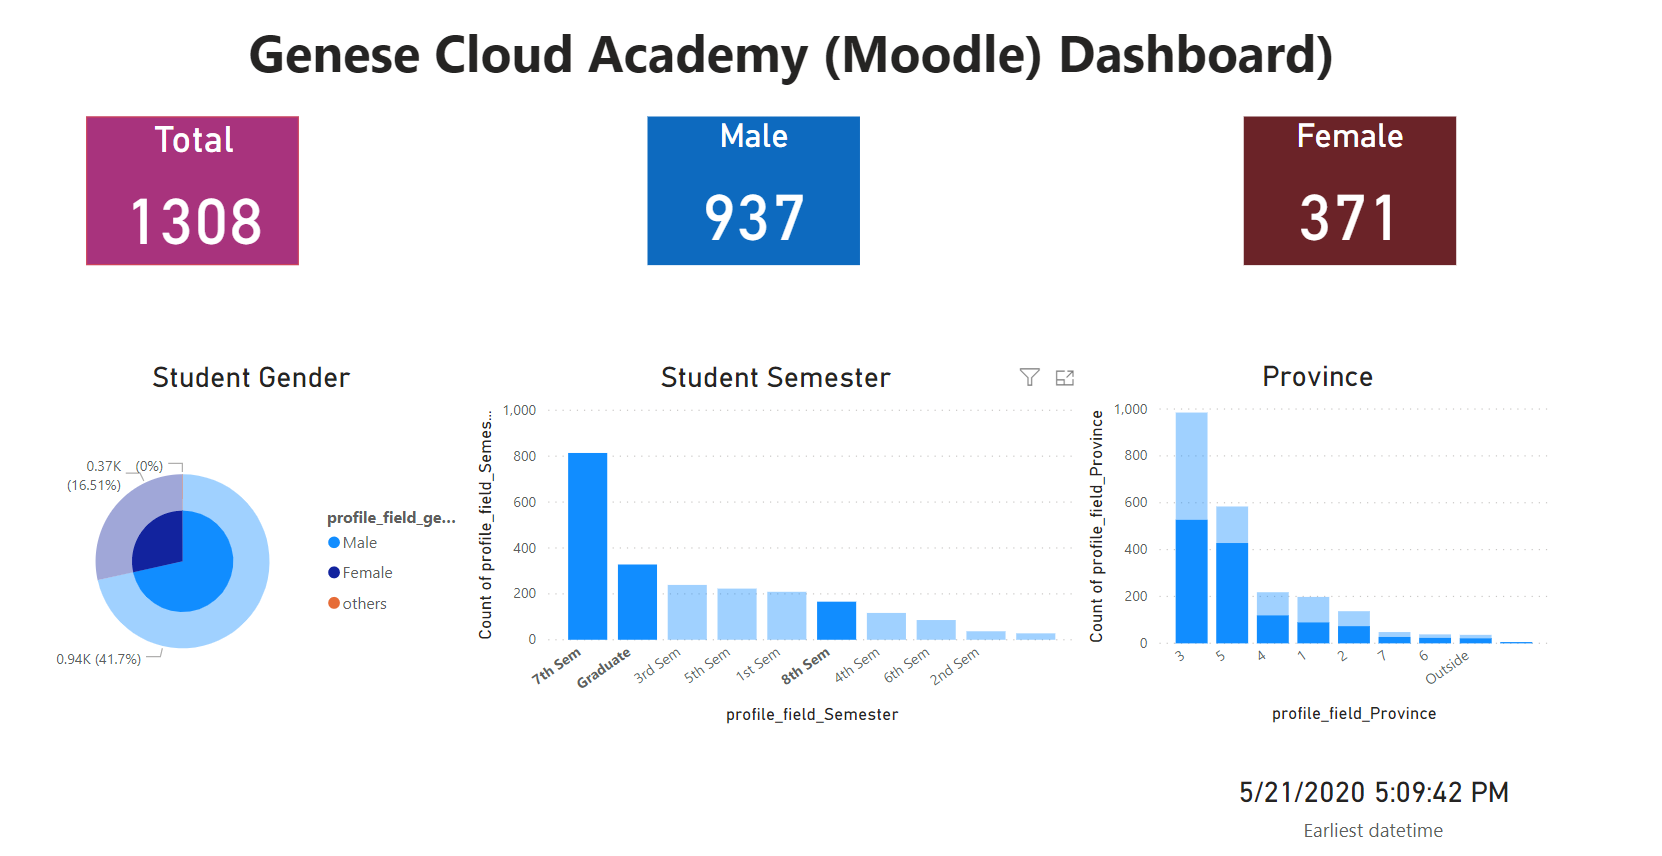

This screenshot's page, from the dashboard's own definition file:
{"tool":"powerbi","page":{"name":"Dashboard","canvas":[1280,720],"ordinal":0},"visuals":[{"type":"pieChart","title":"Student Gender","fields":{"Category":["user_latest.profile_field_gender1"],"Series":["user_latest.profile_field_gender1"],"Y":["CountNonNull(user_latest.profile_field_gender)"]},"box":[2.1,303.2,367.2,310.5],"z":0},{"type":"columnChart","title":"Student Semester","fields":{"Category":["user_latest.profile_field_Semester1"],"Y":["CountNonNull(user_latest.profile_field_Semester)1"]},"box":[369.4,303.2,513.4,310.5],"z":1000},{"type":"columnChart","title":"Province","fields":{"Category":["user_latest.profile_field_Province1"],"Y":["CountNonNull(user_latest.profile_field_Province)1"]},"box":[882.3,302.7,397.4,310.5],"z":2000},{"type":"card","title":"Total","fields":{"Values":["CountNonNull(user_latest.id)"]},"box":[47.1,98.8,178.8,124.4],"z":3000},{"type":"card","title":"Male","fields":{"Values":["CountNonNull(user_latest.profile_field_gender)"]},"box":[518.2,98.8,178.8,124.4],"z":4000},{"type":"card","title":"Female","fields":{"Values":["CountNonNull(user_latest.profile_field_gender)"]},"box":[1019.5,98.8,178.8,124.4],"z":5000},{"type":"textbox","box":[0,10.9,1279.3,72.5],"z":6000},{"type":"card","fields":{"Values":["Min(Kathmandu.datetime)"]},"box":[994.2,641.5,268.2,68.9],"z":7000}]}

Visuals, with their boxes on the page's 1280x720 design canvas (x1, y1, x2, y2). These are canvas units, not pixel positions in the 1662x856 screenshot, which may show the page scaled, cropped or inside an application window:
"Student Gender" pieChart: (x1=2, y1=303, x2=369, y2=614)
"Student Semester" columnChart: (x1=369, y1=303, x2=883, y2=614)
"Province" columnChart: (x1=882, y1=303, x2=1280, y2=613)
"Total" card: (x1=47, y1=99, x2=226, y2=223)
"Male" card: (x1=518, y1=99, x2=697, y2=223)
"Female" card: (x1=1020, y1=99, x2=1198, y2=223)
textbox: (x1=0, y1=11, x2=1279, y2=83)
card - Min(Kathmandu.datetime): (x1=994, y1=642, x2=1262, y2=710)
